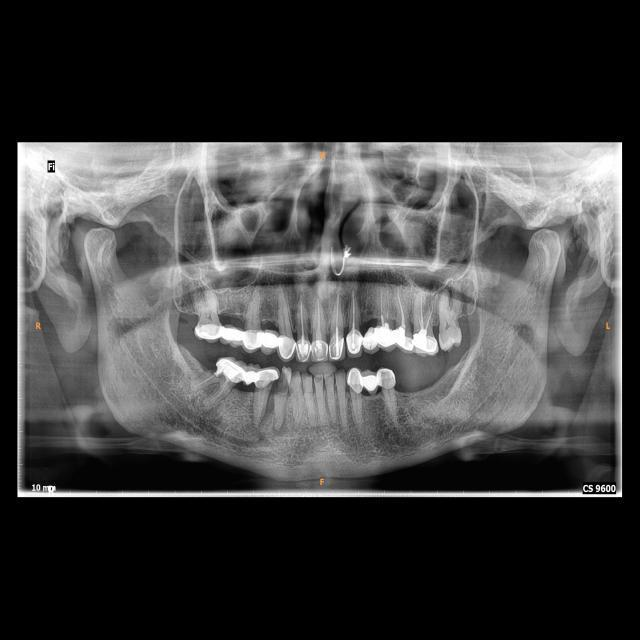dentin-curugu: (277, 372, 289, 395)
kanal-tedavisi: (418, 293, 434, 330), (395, 289, 408, 328), (296, 295, 307, 337), (349, 289, 359, 332), (333, 293, 342, 335), (315, 301, 325, 338), (380, 290, 390, 324)
kaplama: (217, 357, 243, 383), (414, 334, 438, 357), (192, 321, 220, 340), (254, 369, 276, 391), (395, 326, 415, 350), (348, 368, 364, 396), (245, 326, 262, 351), (378, 327, 397, 348), (346, 331, 364, 352), (278, 335, 295, 357), (378, 368, 396, 388), (328, 336, 344, 358), (313, 338, 330, 358), (297, 338, 312, 359)
kopru: (218, 315, 246, 349), (361, 321, 383, 354), (260, 318, 278, 354), (241, 364, 260, 392), (362, 365, 378, 397)
